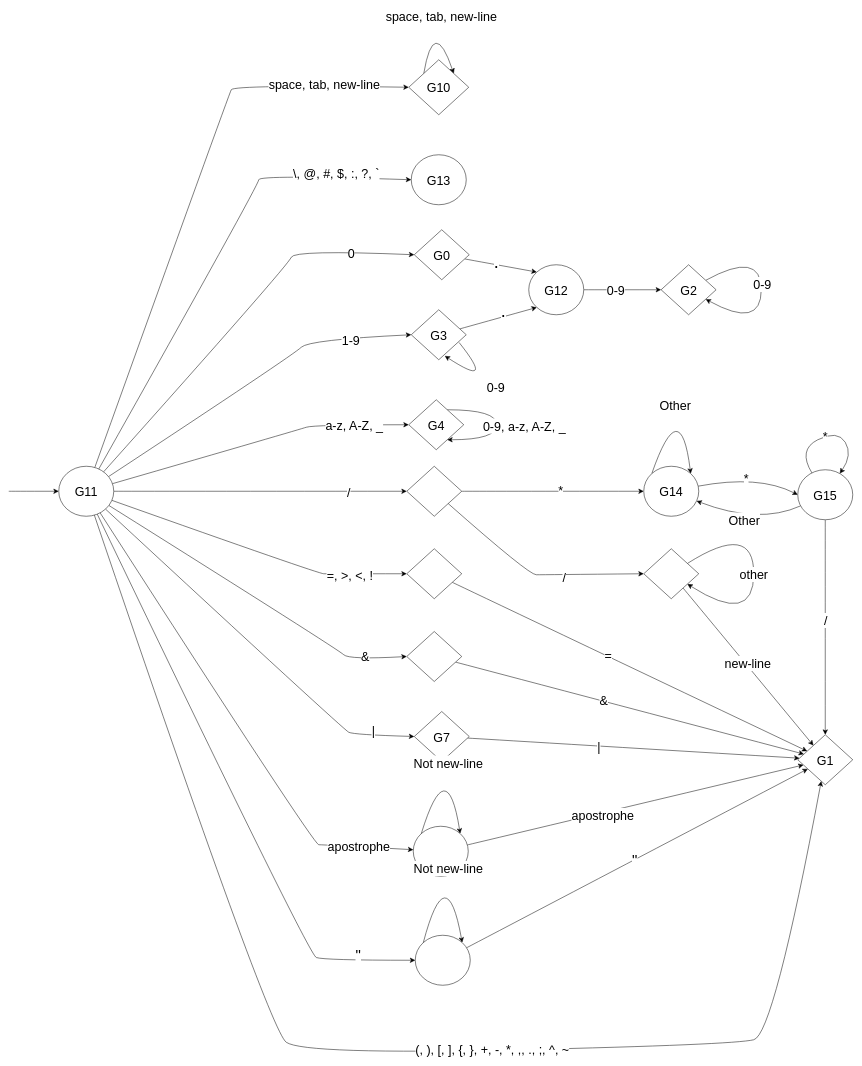
This 862x1066 diagram has some shape labels left out. Here are the shapes that lost their labels. From the top down, the centre of each, then its label:
At pixel 434 491: "G8".
At pixel 434 573: "G5".
At pixel 671 573: "G9".
At pixel 434 656: "G6".
At pixel 440 851: "G16".
At pixel 442 960: "G17".
